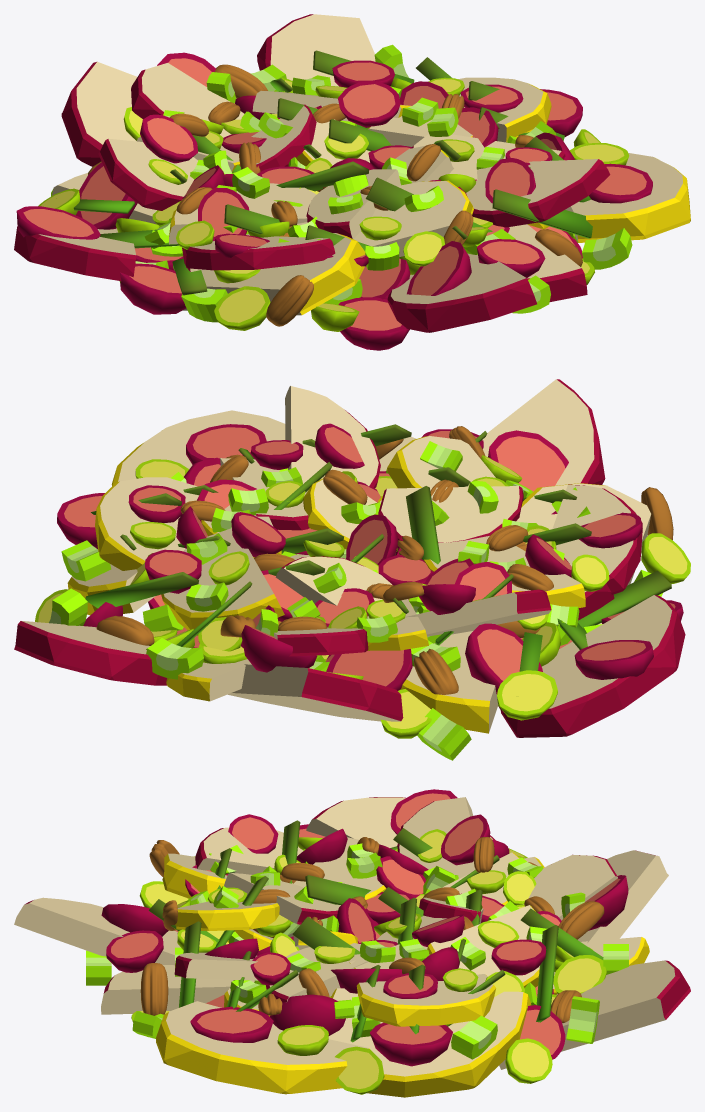
Rendered from EnsaladaWaldorf.fbx.
The picture shows the model from 3 angles, top to bottom: view 1: azimuth 30°, elevation 25°; view 2: azimuth 150°, elevation 25°; view 3: azimuth 270°, elevation 25°; orthographic projection. The views are drawn at different scales.
Visible parts, largest first — view 1: Ensalada Entera; view 2: Ensalada Entera; view 3: Ensalada Entera.
Boxes of the visible parts, left/top/right/bottom form: Ensalada Entera: left=14, top=14, right=690, bottom=350; Ensalada Entera: left=14, top=379, right=690, bottom=760; Ensalada Entera: left=14, top=789, right=690, bottom=1097.
Size of the model in its own units: 23.76 by 5.13 by 25.34.
Materials: 11 (1 with a texture image).
